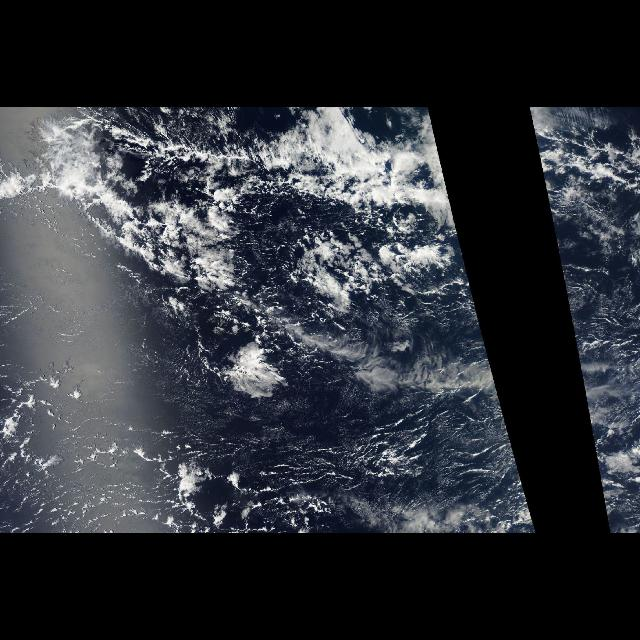Fish: (1, 108, 506, 416), (532, 117, 624, 380)
Flower: (199, 326, 297, 418)
Gravel: (36, 412, 536, 530)
Sugar: (4, 234, 350, 524), (434, 398, 518, 526)
